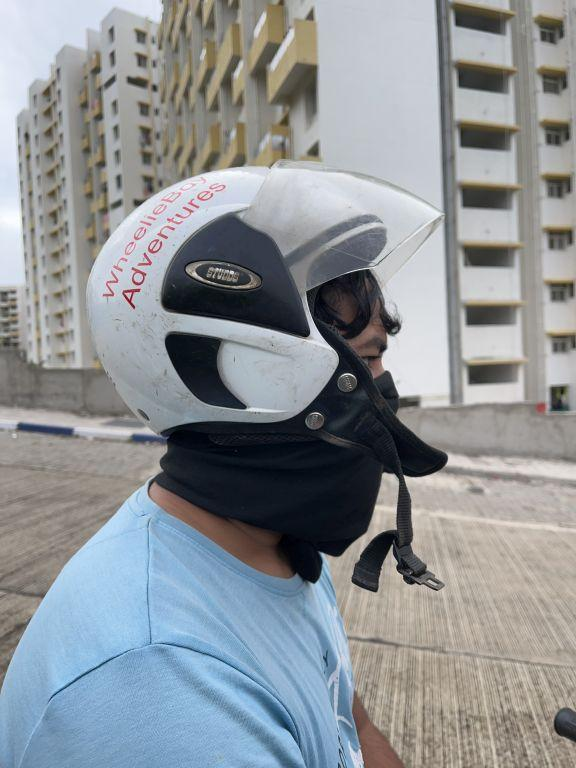helmet: (70, 144, 466, 618)
